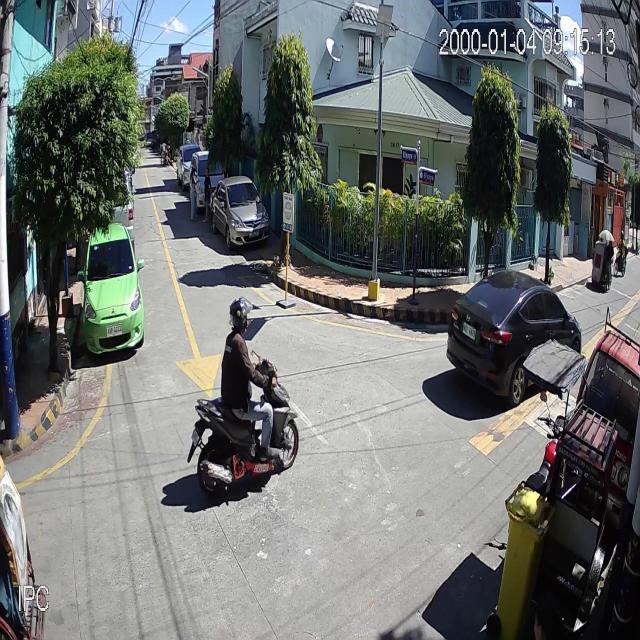standing: (188, 166, 201, 221), (202, 166, 213, 223)
